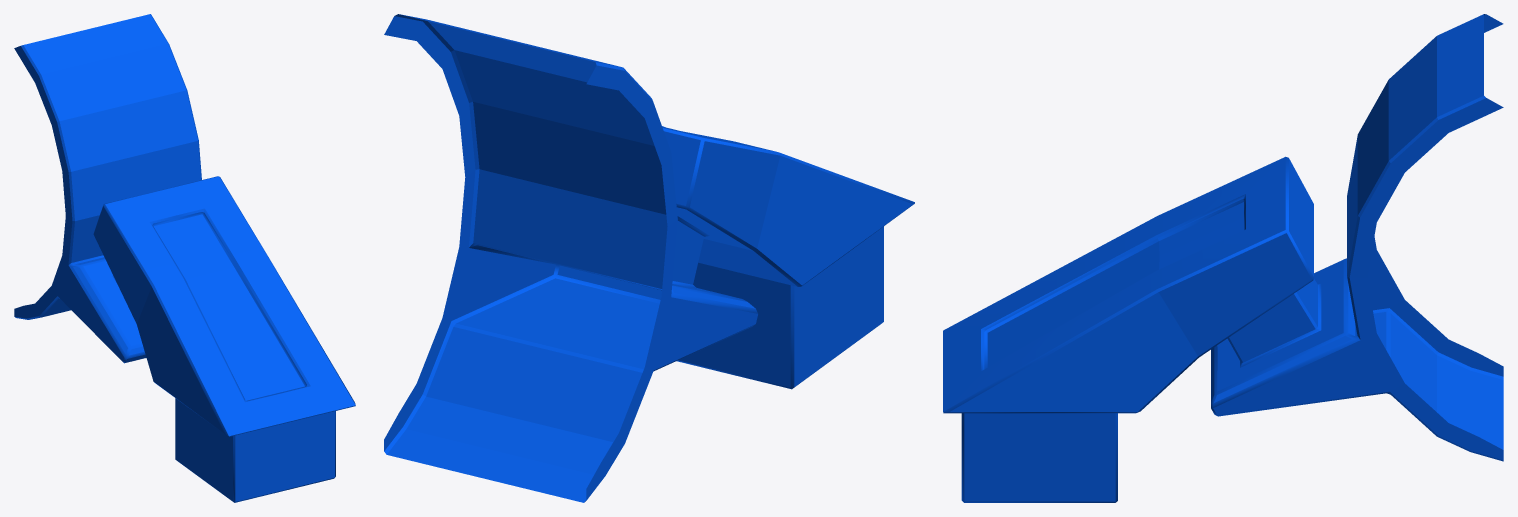
The model's file is Vagon_Plataforma_Gancho.fbx.
3 views of the same model, side by side, from view 1: azimuth 30°, elevation 25°; view 2: azimuth 150°, elevation 25°; view 3: azimuth 270°, elevation 25° (orthographic). The views are drawn at different scales.
Parts seen in each view (by area): view 1: Vagon_Plataforma_Gancho_IZQ; view 2: Vagon_Plataforma_Gancho_IZQ; view 3: Vagon_Plataforma_Gancho_IZQ.
Boxes of the visible parts, x1,y1,x2,y2 form: Vagon_Plataforma_Gancho_IZQ: (14,14,355,502); Vagon_Plataforma_Gancho_IZQ: (384,14,914,502); Vagon_Plataforma_Gancho_IZQ: (943,14,1503,502).
Size of the model in its own units: 100 by 232 by 283.
